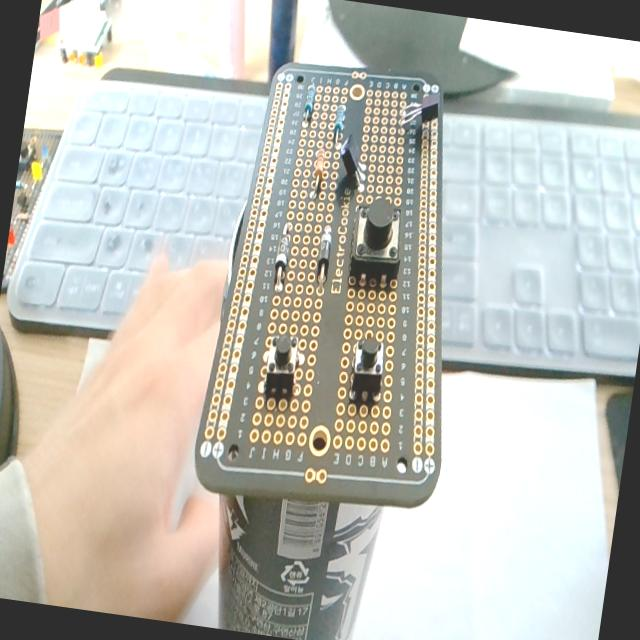diode: (272, 227, 292, 292), (314, 223, 334, 284)
resistor: (309, 149, 329, 202), (302, 83, 317, 121), (333, 105, 346, 137)
switch: (346, 193, 408, 290), (261, 332, 304, 403), (348, 334, 388, 406)
transistor: (397, 88, 442, 148), (334, 134, 372, 195)
